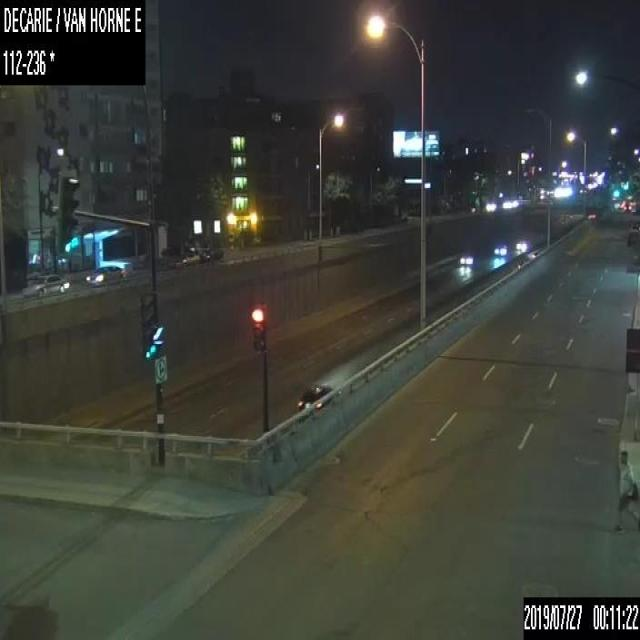pedestrian: (616, 448, 639, 531)
vehicle: (19, 272, 70, 297), (296, 381, 334, 411), (84, 266, 124, 285), (164, 246, 198, 266), (515, 235, 530, 252), (458, 251, 474, 264), (494, 242, 508, 255), (622, 202, 630, 212), (586, 210, 594, 220)
